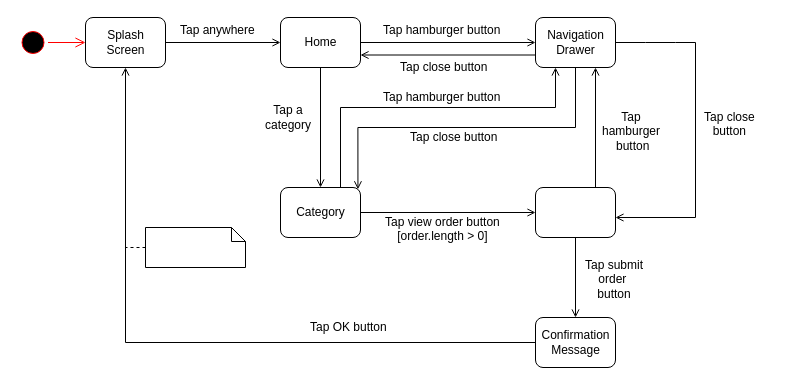
This 789x385 diagram has some shape labels left out. The centre of each missing label's shape, as x and y in pixels:
"App runs continuously" goes at [195,247].
"Order" goes at [575,212].
